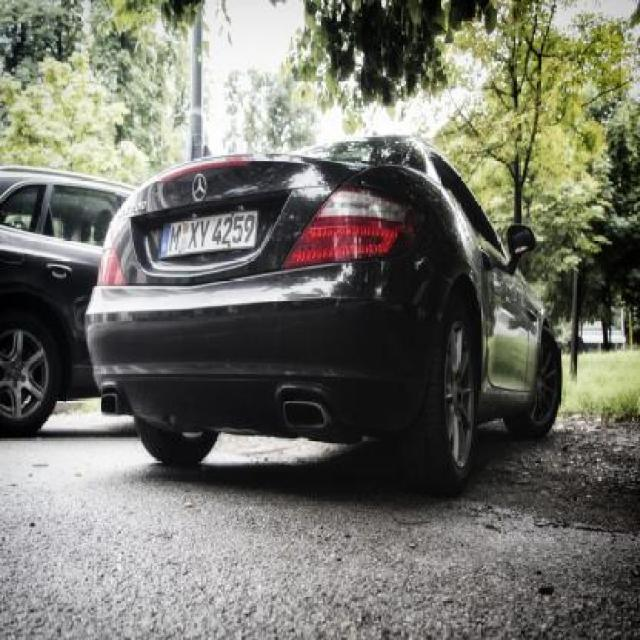License-Plates: (158, 210, 258, 258)
